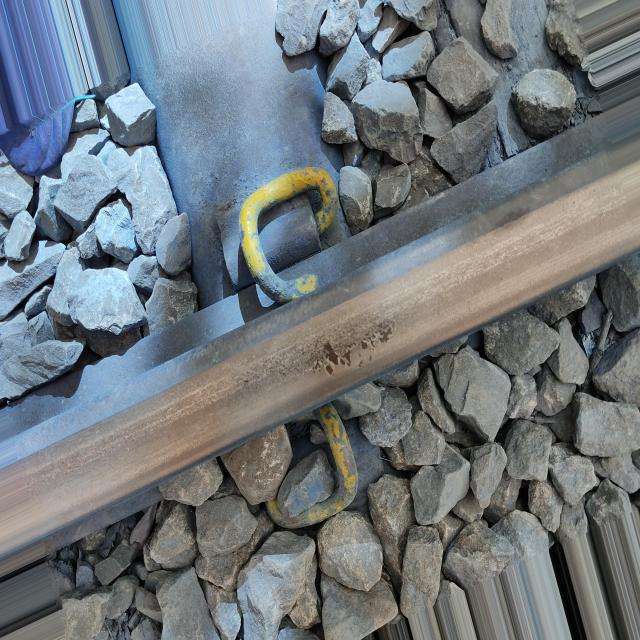Good Fasteners: (209, 156, 343, 309), (269, 403, 386, 529)
